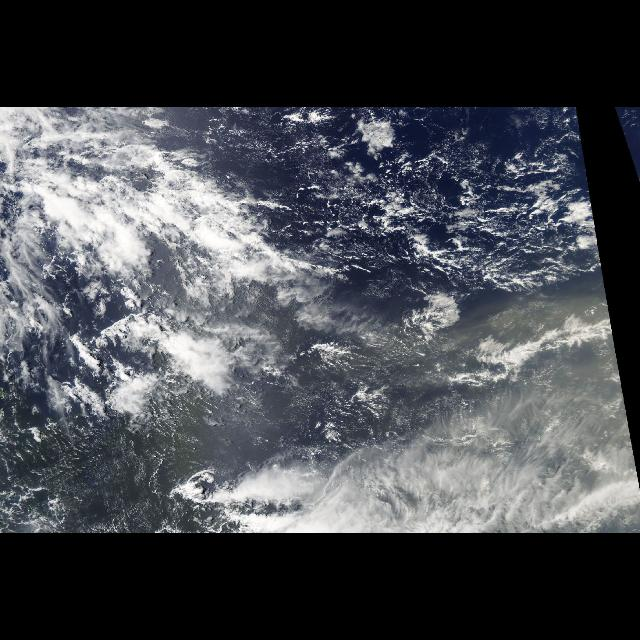Gravel: (261, 111, 603, 291)
Sugar: (262, 316, 478, 424)
